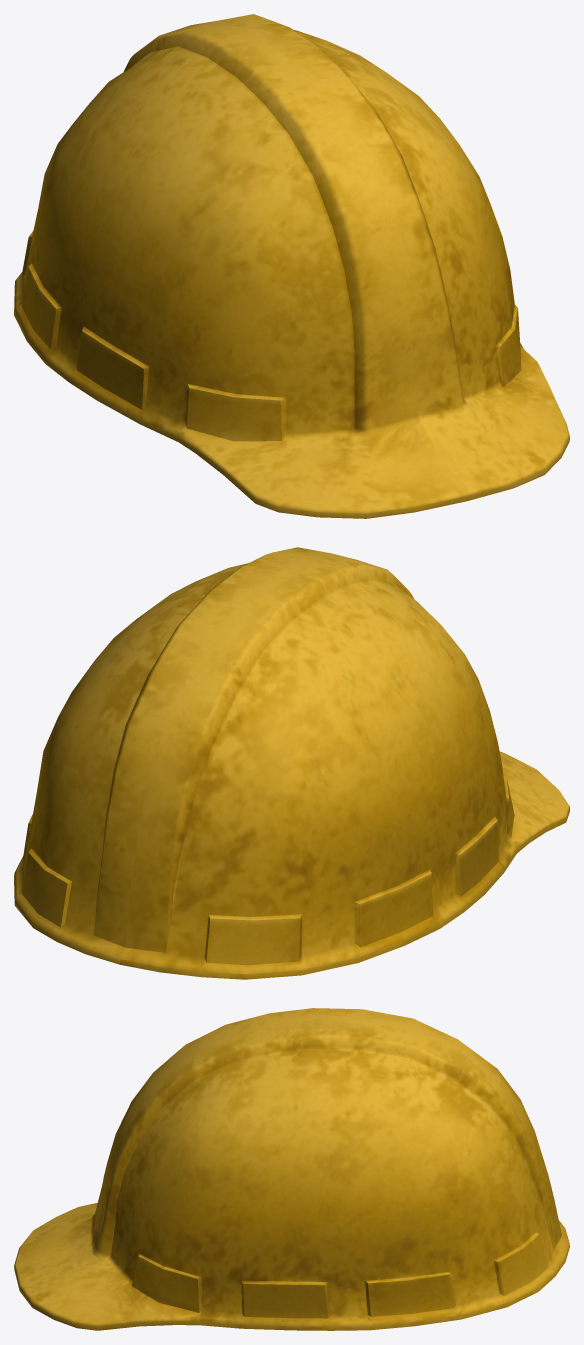
Rendered from casco.fbx.
3 renders of one model, top to bottom at view 1: azimuth 30°, elevation 25°; view 2: azimuth 150°, elevation 25°; view 3: azimuth 270°, elevation 25°, orthographic. The views are drawn at different scales.
Visible parts, largest first — view 1: casco1:Head_Hat; view 2: casco1:Head_Hat; view 3: casco1:Head_Hat.
Part boxes in pixels (x1=…): casco1:Head_Hat: x1=14, y1=14, x2=569, y2=518; casco1:Head_Hat: x1=14, y1=547, x2=569, y2=979; casco1:Head_Hat: x1=14, y1=1008, x2=569, y2=1330.
Bounding box in the file's own units: 44.06 × 32.92 × 65.41.
